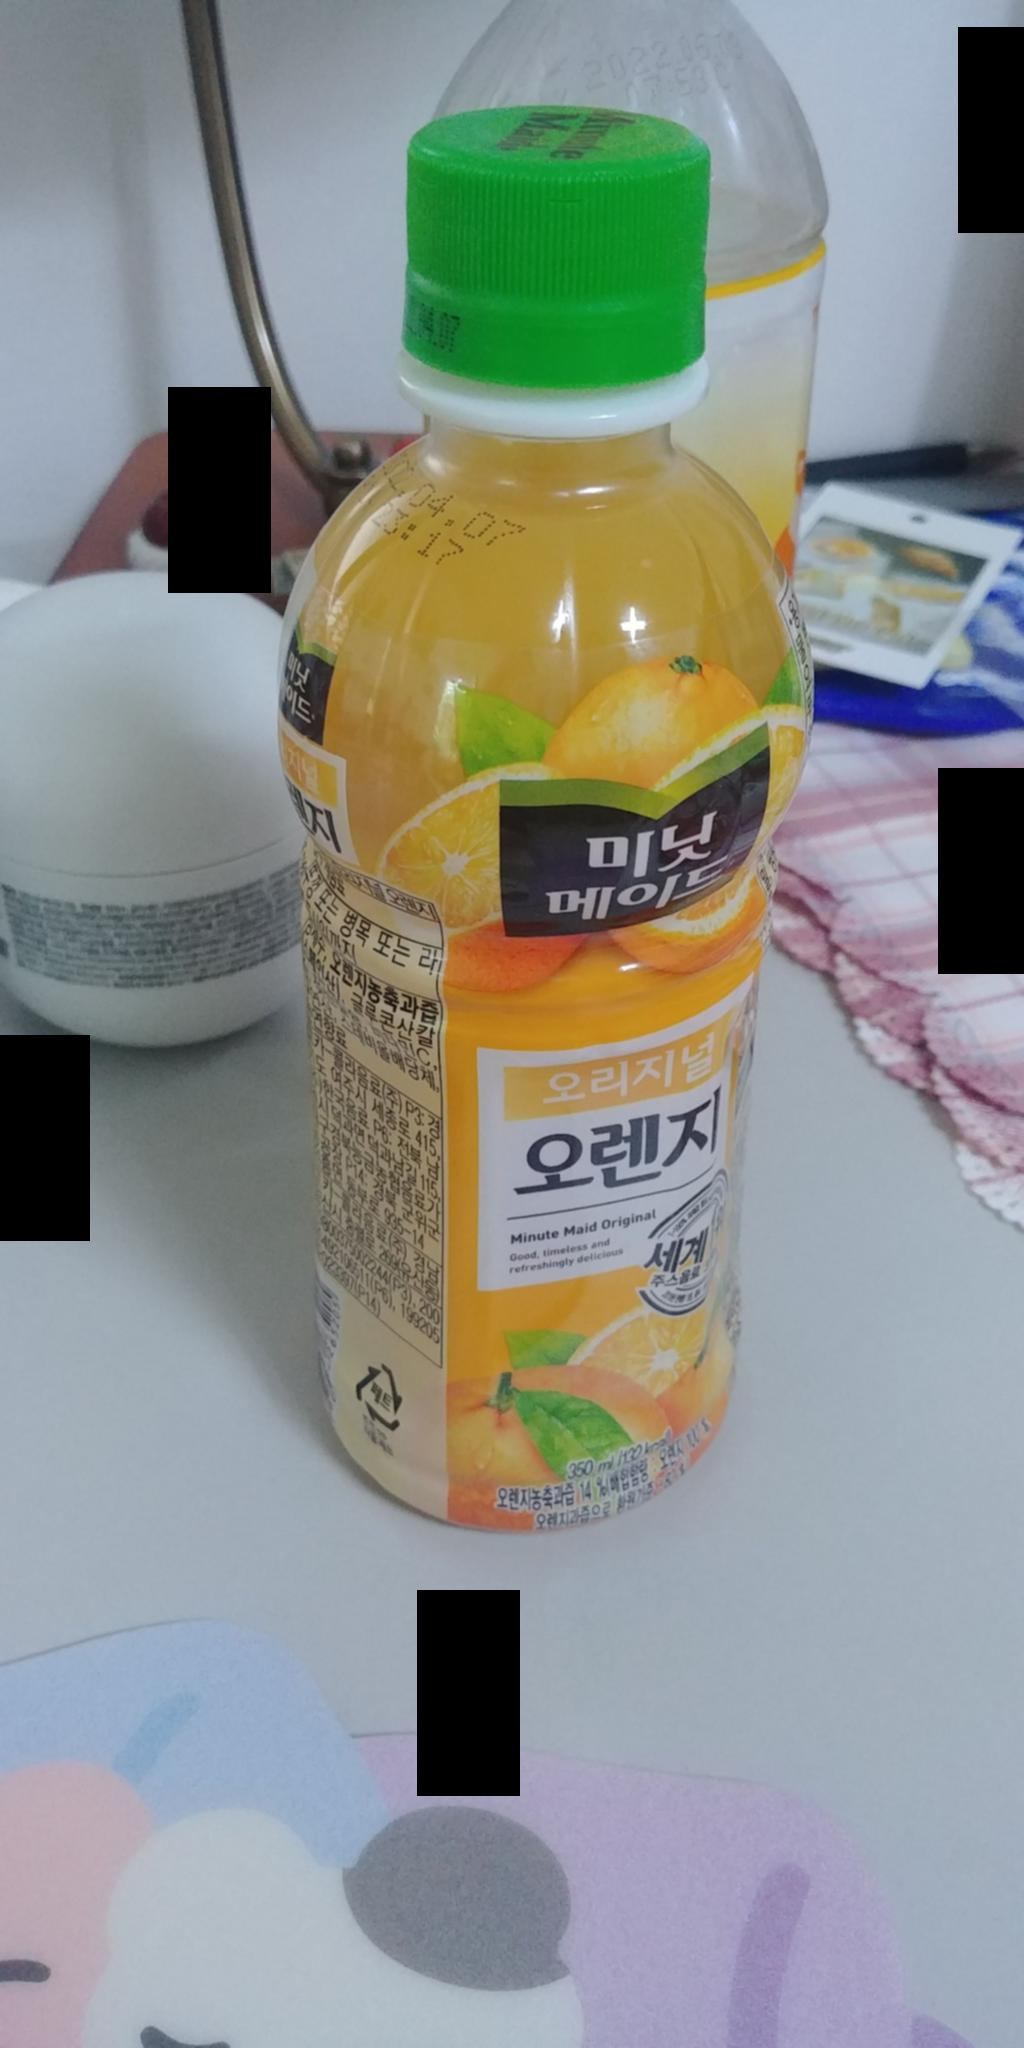minutemaid_org_orange: (273, 84, 764, 1574)
